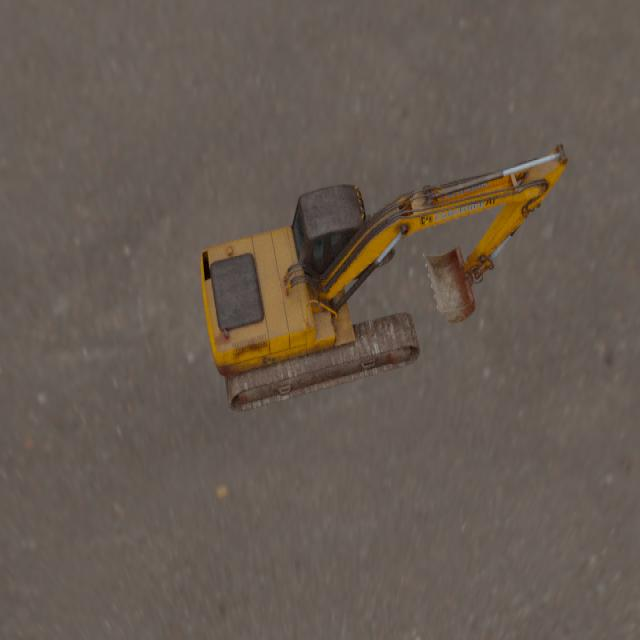excavator: (200, 141, 568, 412)
